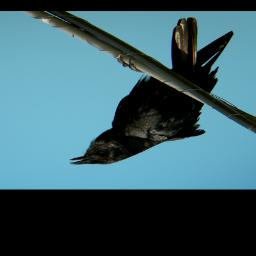Crow: (68, 16, 235, 167)
